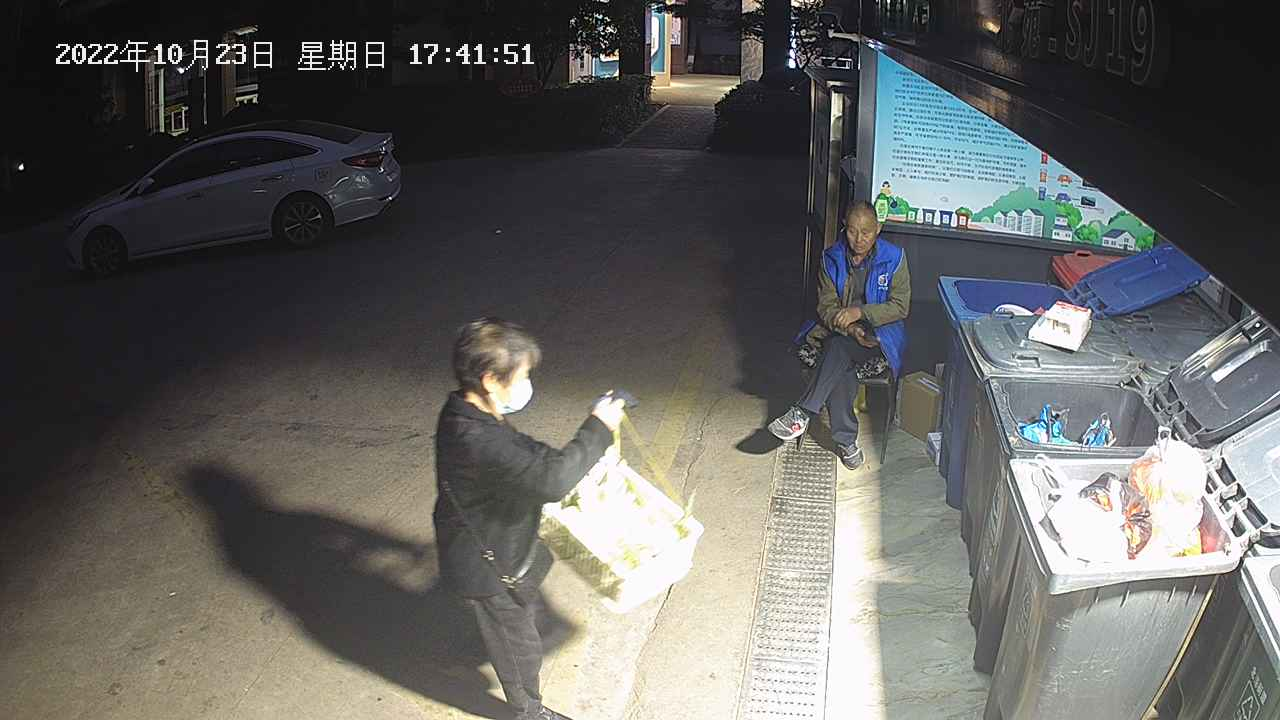person: (429, 314, 626, 718)
worker: (765, 198, 913, 471)
youtong: (536, 391, 705, 610)
